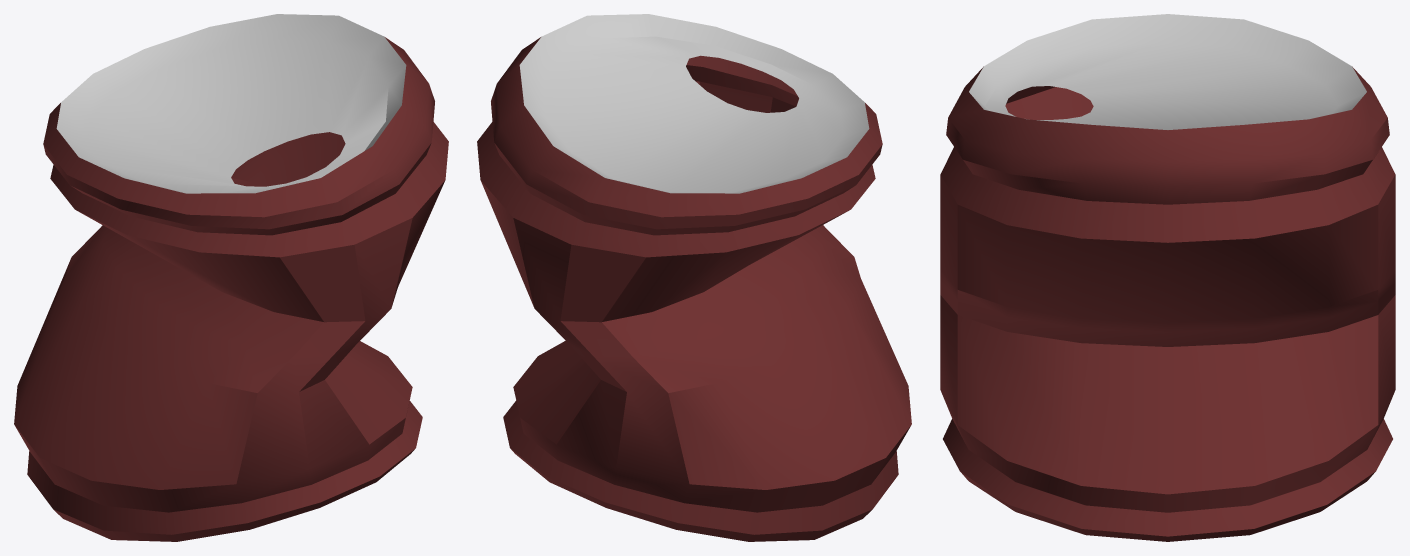
File: LataBebida_01.fbx
3 views of the same model, side by side, from view 1: azimuth 30°, elevation 25°; view 2: azimuth 150°, elevation 25°; view 3: azimuth 270°, elevation 25° (orthographic). The views are drawn at different scales.
Parts seen in each view (by area): view 1: LataBebida_01; view 2: LataBebida_01; view 3: LataBebida_01.
Boxes of the visible parts, x1=… form: LataBebida_01: x1=14, y1=14, x2=448, y2=541; LataBebida_01: x1=477, y1=14, x2=911, y2=541; LataBebida_01: x1=940, y1=14, x2=1395, y2=541.
Size of the model in its own units: 28.6 by 28.83 by 26.06.
